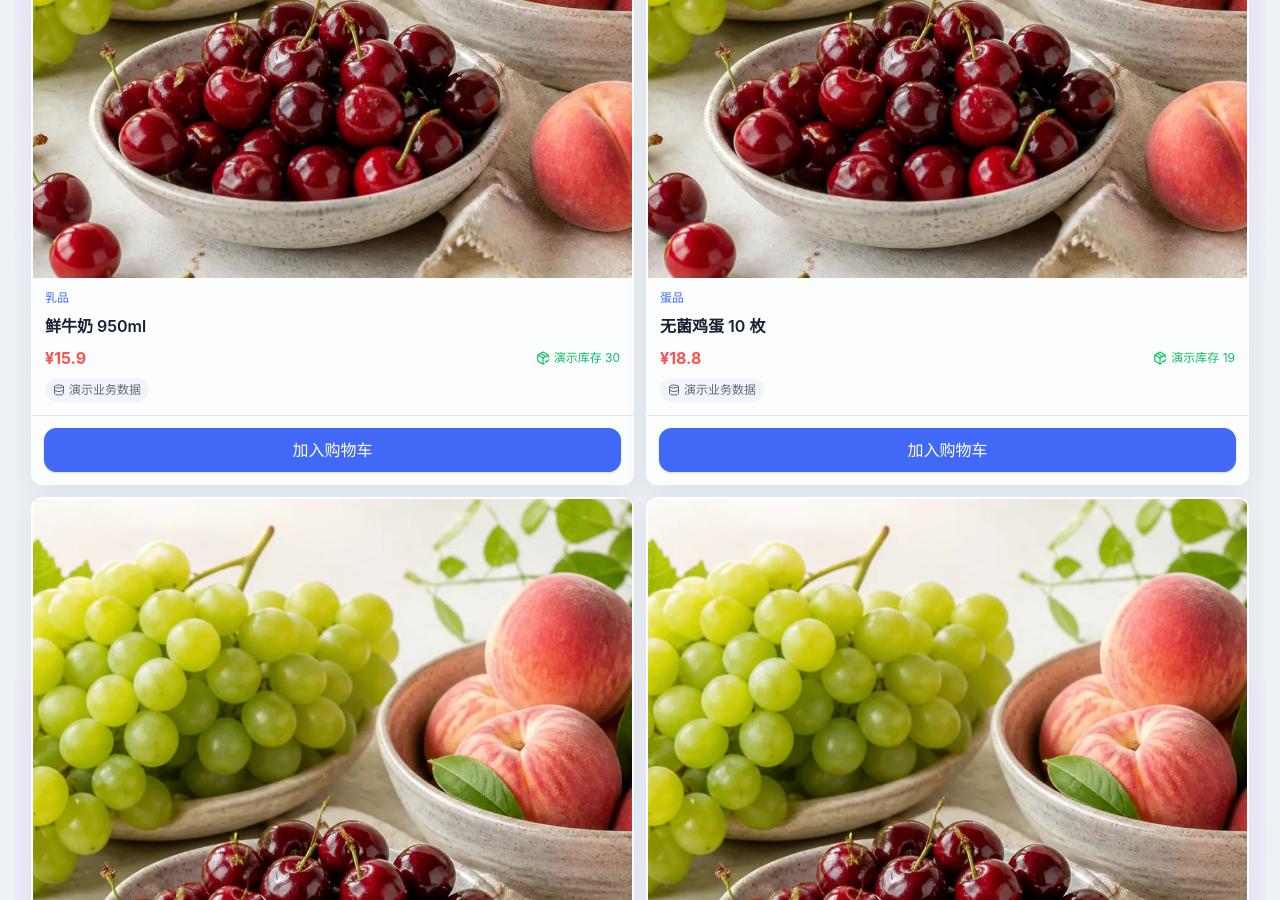
Test: demo cart › shares local cart state between market and cart views
(page scrolled)
Click the button "加入购物车" below "15.9": (332, 450) [44,428,621,472]
(page scrolled)
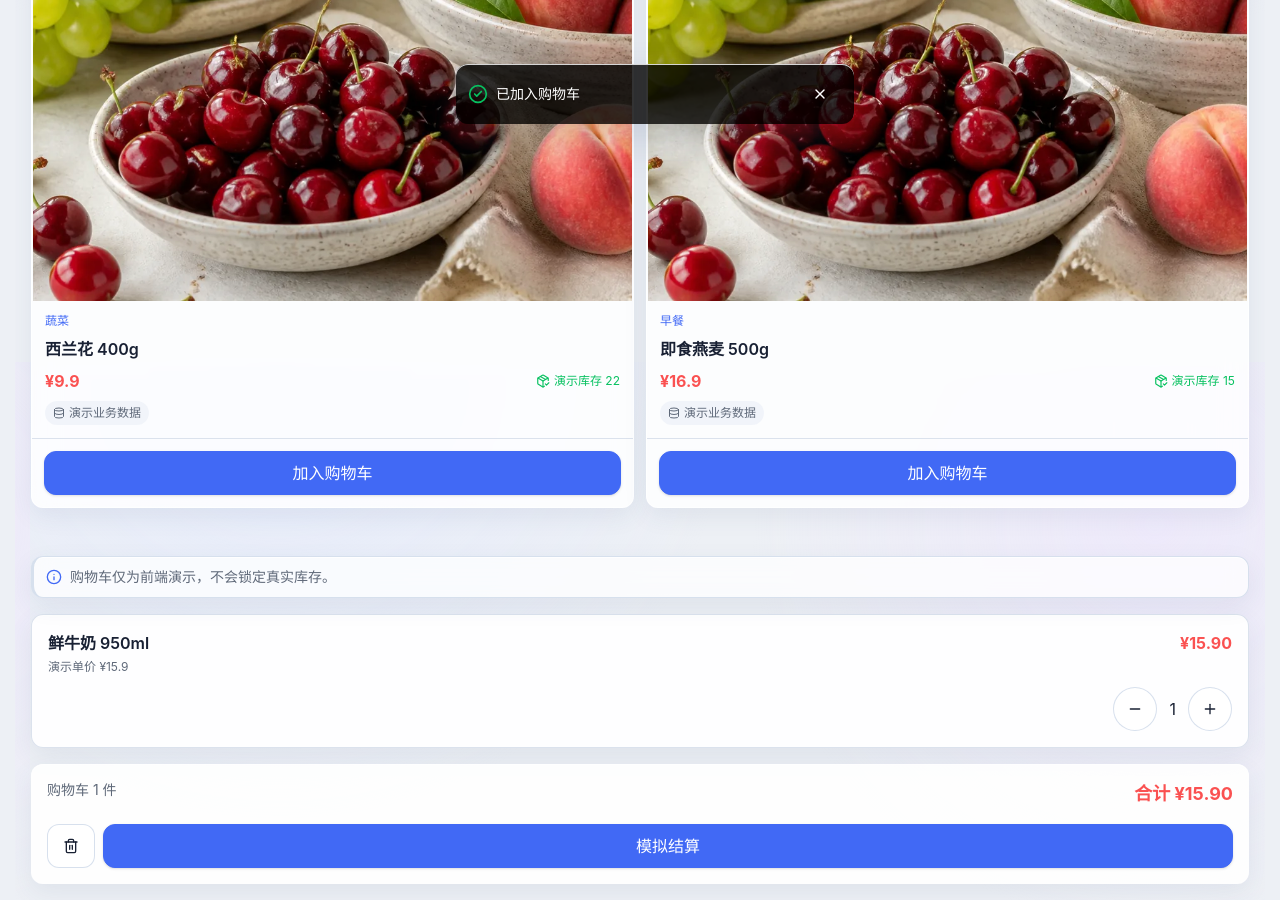
Result: the message "已加入购物车" is shown at [456,64,854,124]
Result: the button "模拟结算" is shown at [103,824,1233,868]
Click the button named "清空购物车": (71, 846) [47,824,95,868]
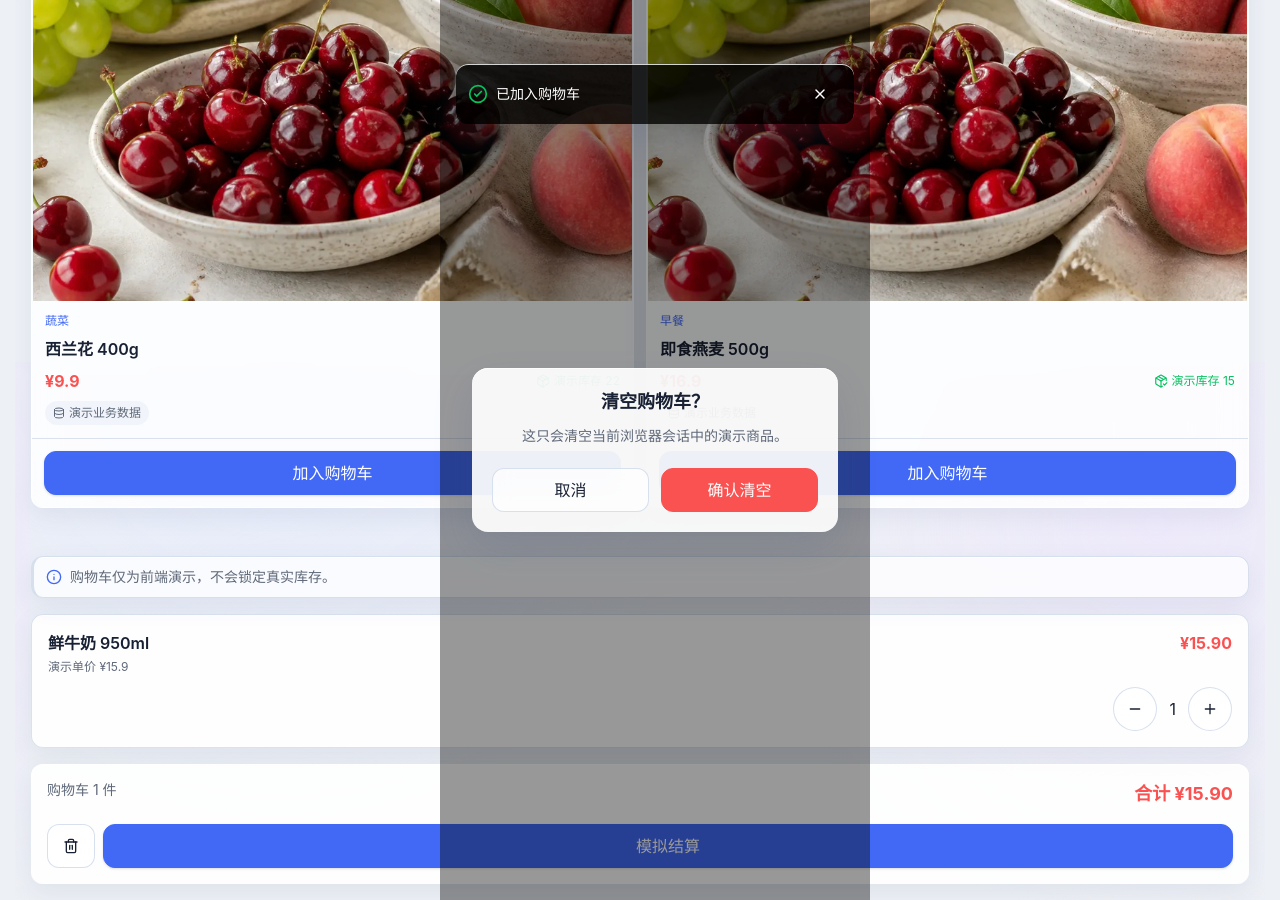
Result: the dialog "清空购物车？" is shown at [472,368,838,532]
Click the button "确认清空": (740, 490) [661,468,818,512]
(page scrolled)
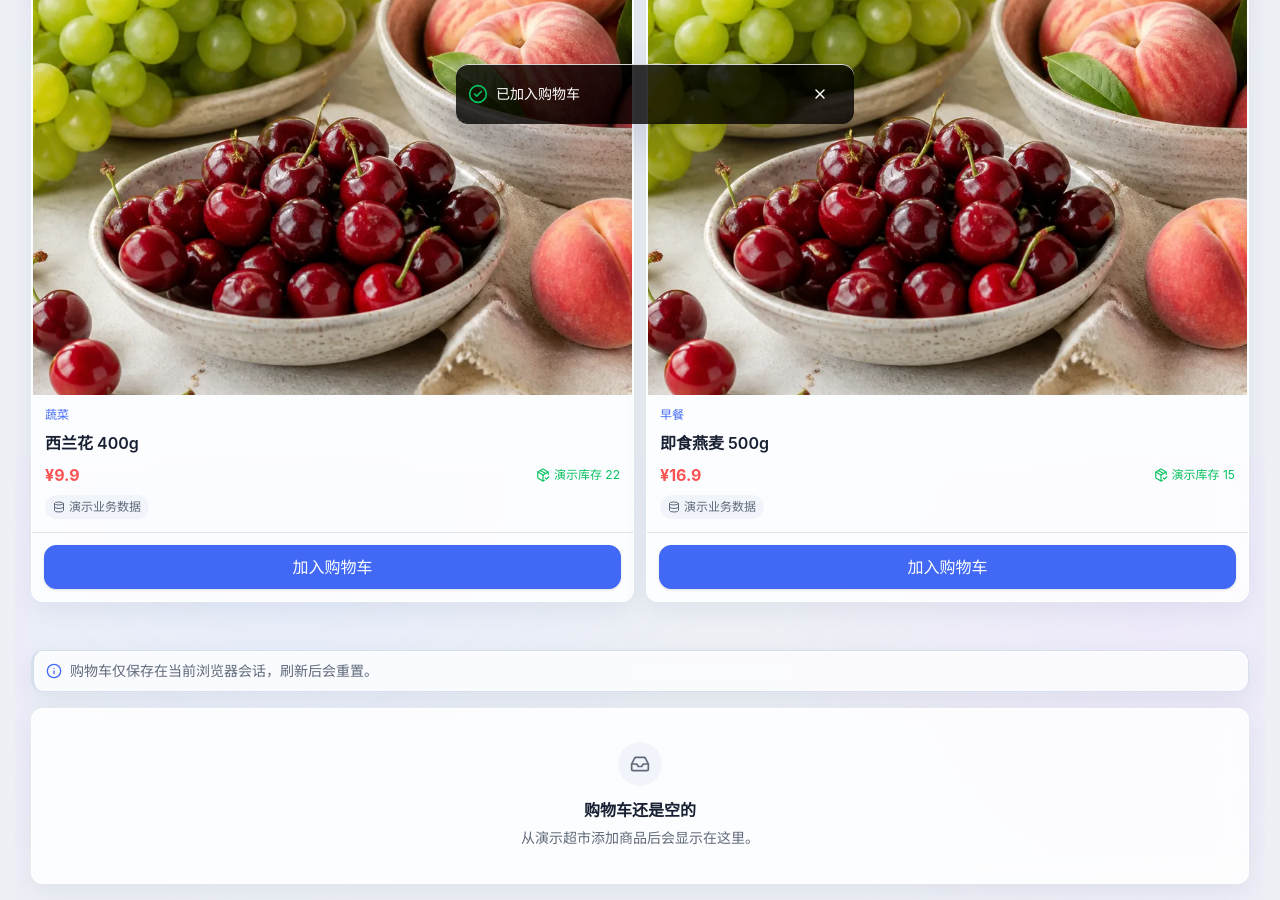
Result: the heading "购物车还是空的" is shown at [584,798,696,822]
